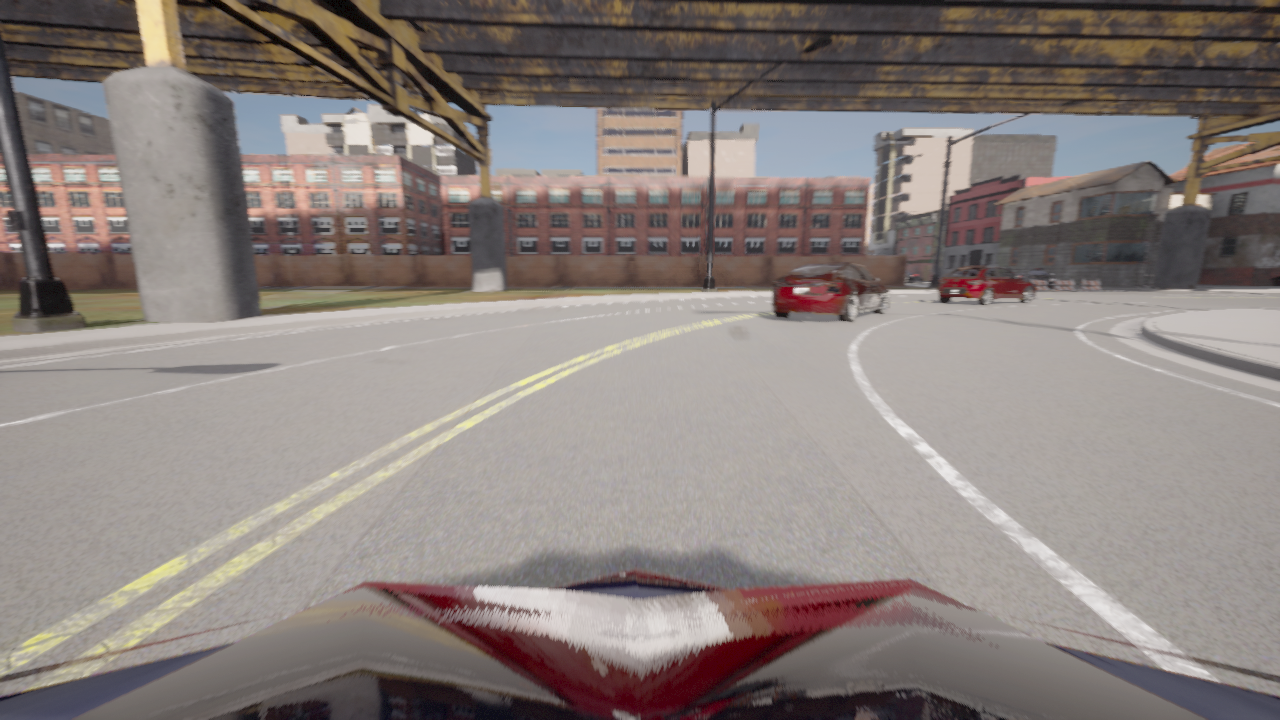cyclist: (0, 569, 1279, 719), (772, 263, 889, 322), (938, 266, 1036, 305), (1019, 269, 1055, 289), (905, 271, 919, 283), (1023, 273, 1053, 274), (940, 275, 946, 278)
